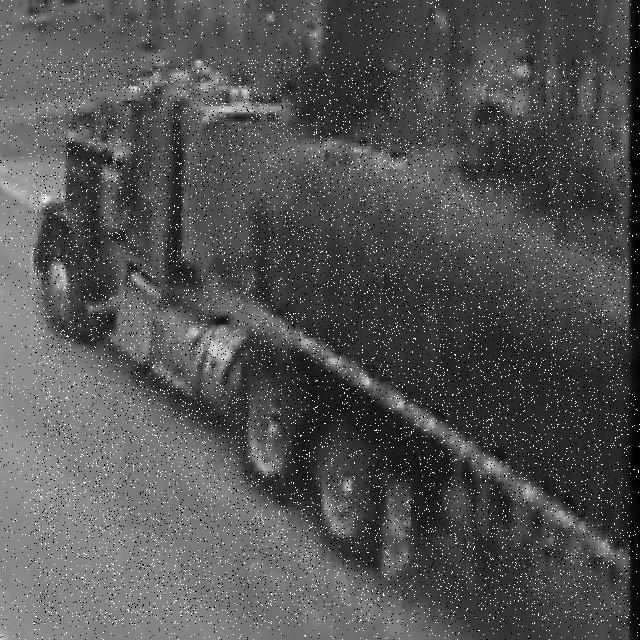Tractor Trailer: (33, 59, 630, 624)
